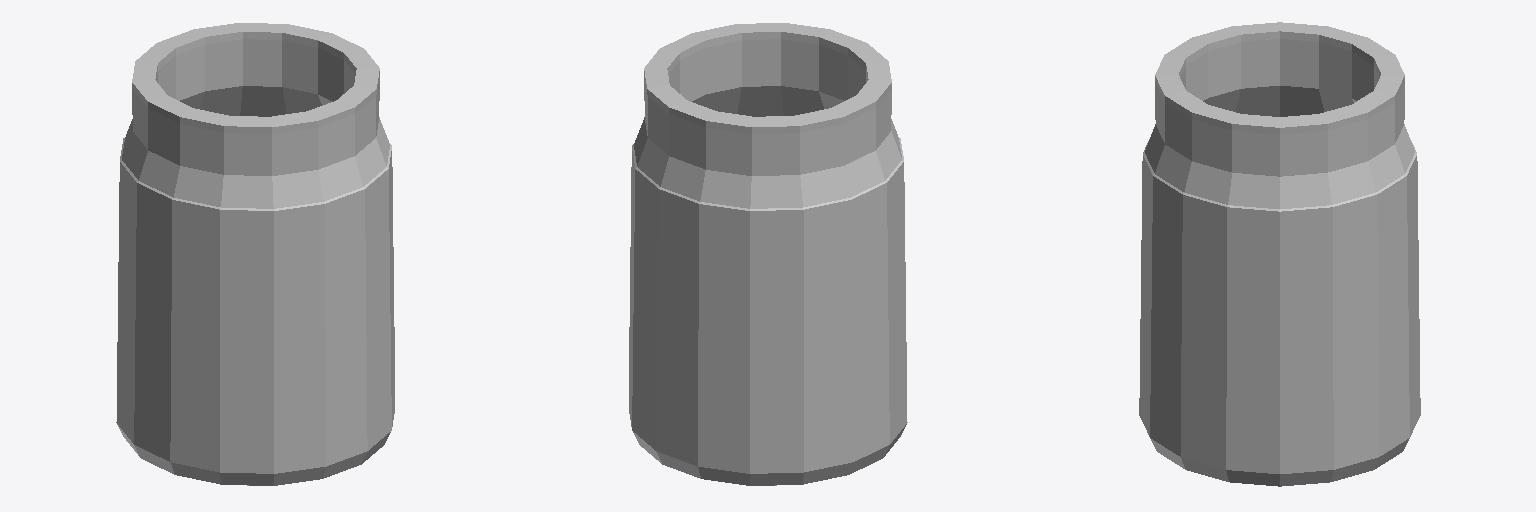
File: open jar #1.obj
3 views of the same model, side by side, from view 1: azimuth 30°, elevation 25°; view 2: azimuth 150°, elevation 25°; view 3: azimuth 270°, elevation 25° (orthographic).
Visible parts, largest first — view 1: Jar_Low; view 2: Jar_Low; view 3: Jar_Low.
Boxes of the visible parts, <box> form: Jar_Low: <box>116,23,394,485</box>; Jar_Low: <box>629,23,907,485</box>; Jar_Low: <box>1139,22,1420,486</box>.
Bounding box in the file's own units: 0.5991 × 0.8536 × 0.5991.